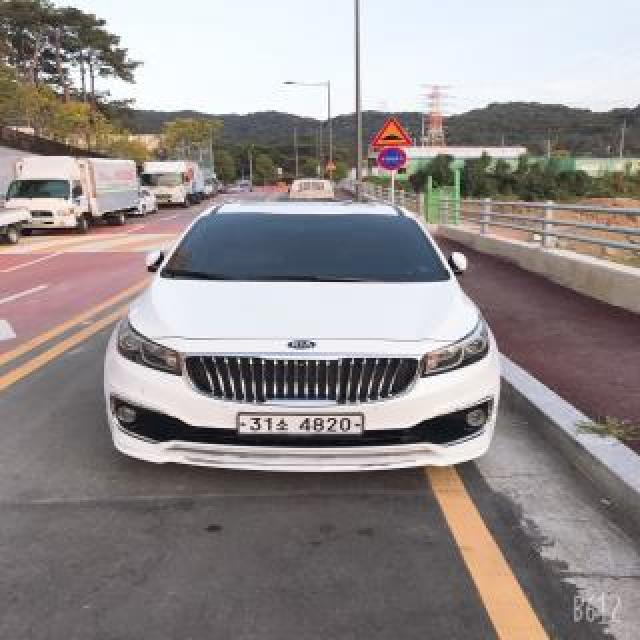car: (108, 193, 518, 488)
illegal_plate: (232, 411, 370, 444)
